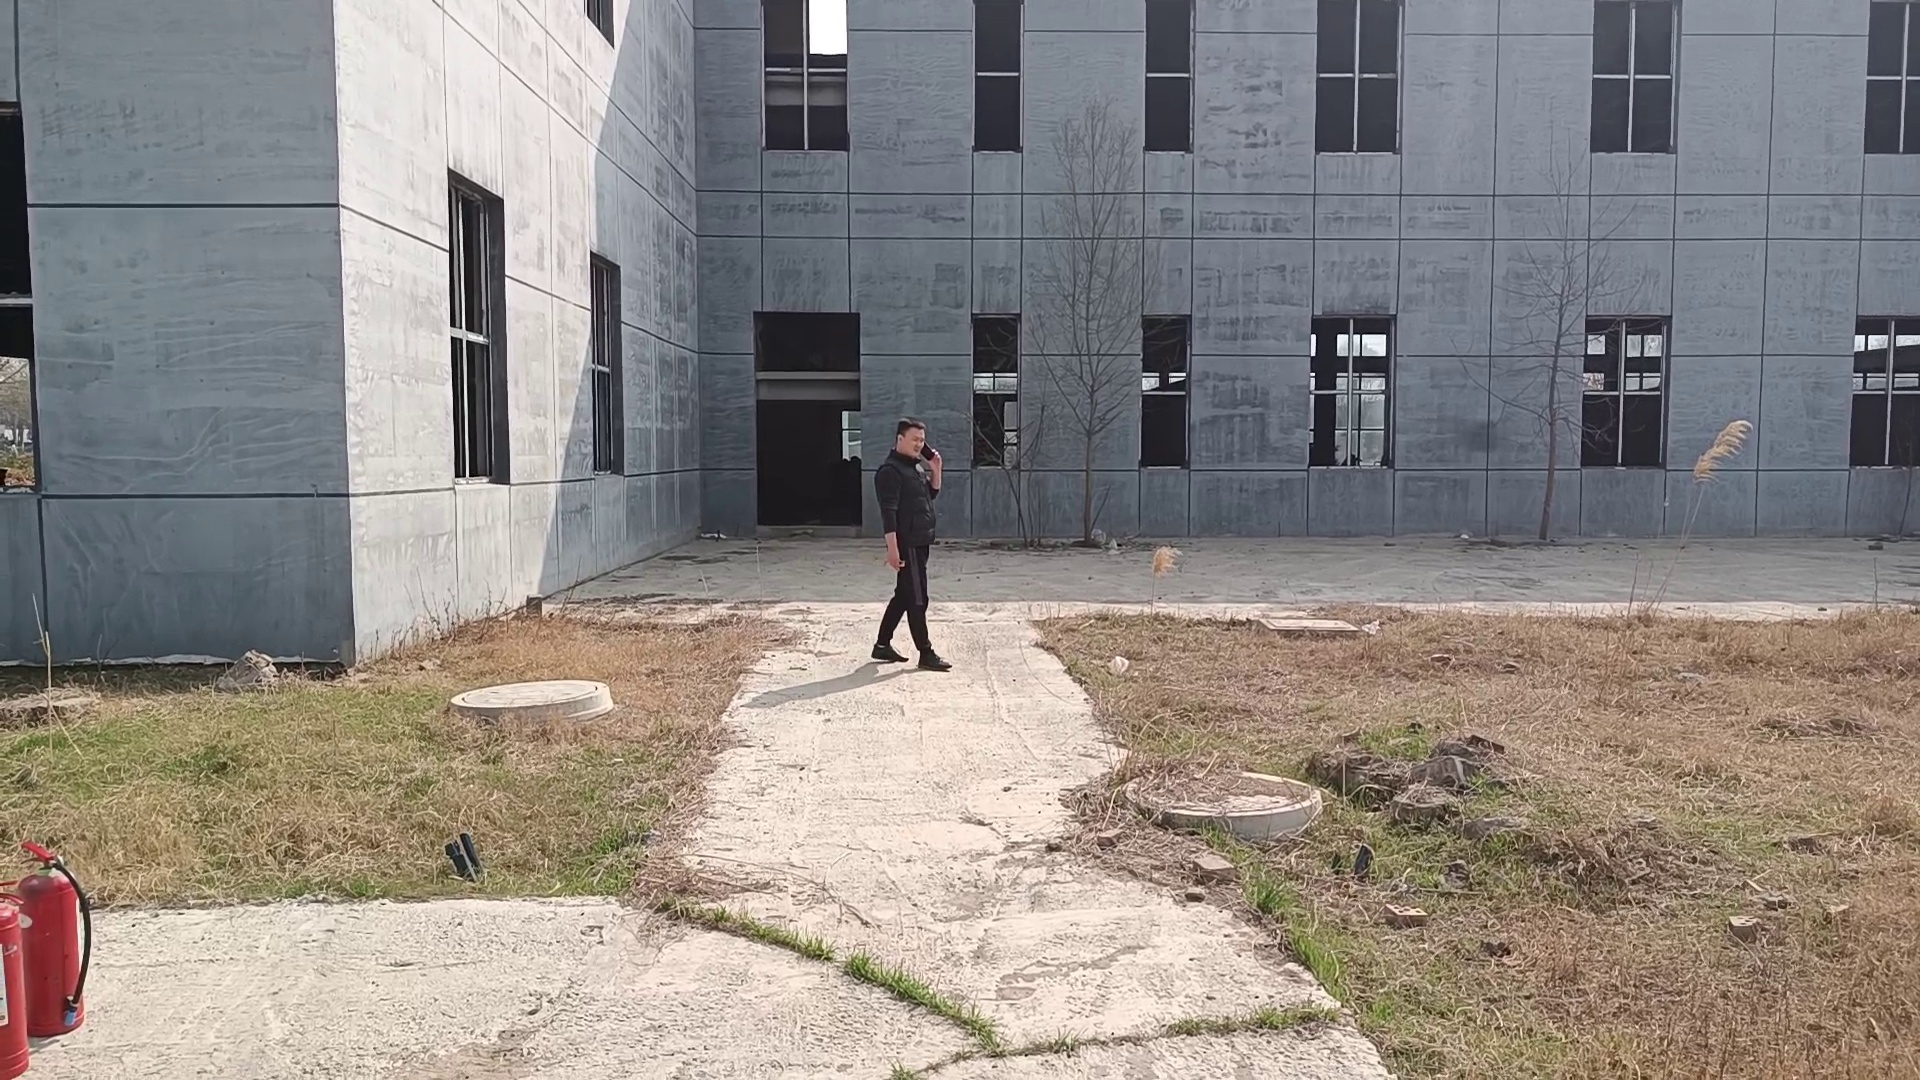phone: (876, 413, 935, 465)
